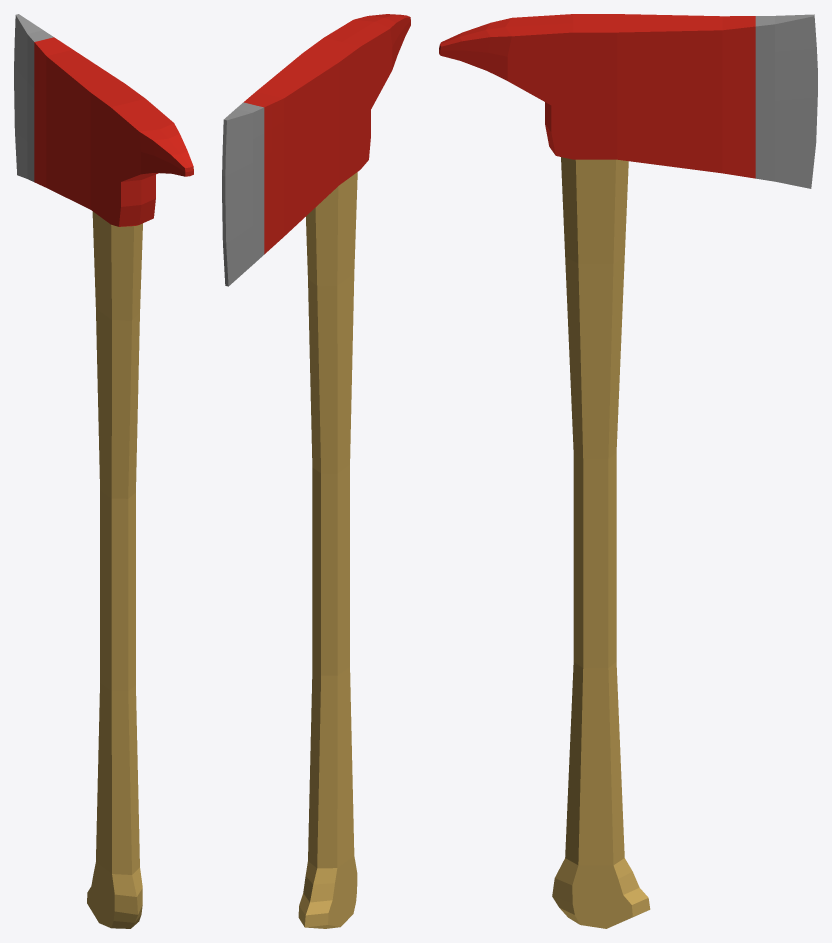
File: Fire Axe.fbx
The picture shows the model from 3 angles, left to right: view 1: azimuth 30°, elevation 25°; view 2: azimuth 150°, elevation 25°; view 3: azimuth 270°, elevation 25°; orthographic projection. The views are drawn at different scales.
Visible parts, largest first — view 1: Melee Fireaxe; view 2: Melee Fireaxe; view 3: Melee Fireaxe.
Part boxes in pixels (<box>): Melee Fireaxe: <box>14,14,193,928</box>; Melee Fireaxe: <box>222,14,410,928</box>; Melee Fireaxe: <box>439,14,817,928</box>.
Size of the model in its own units: 20 by 459 by 173.
